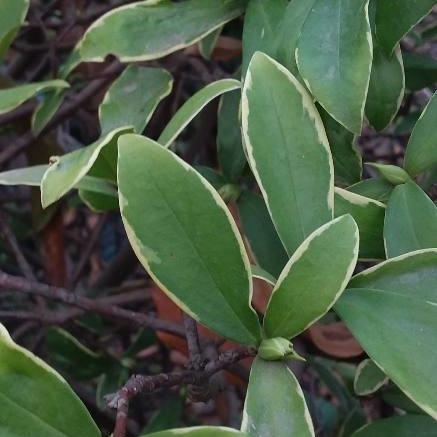obstacle: (106, 85, 423, 434)
